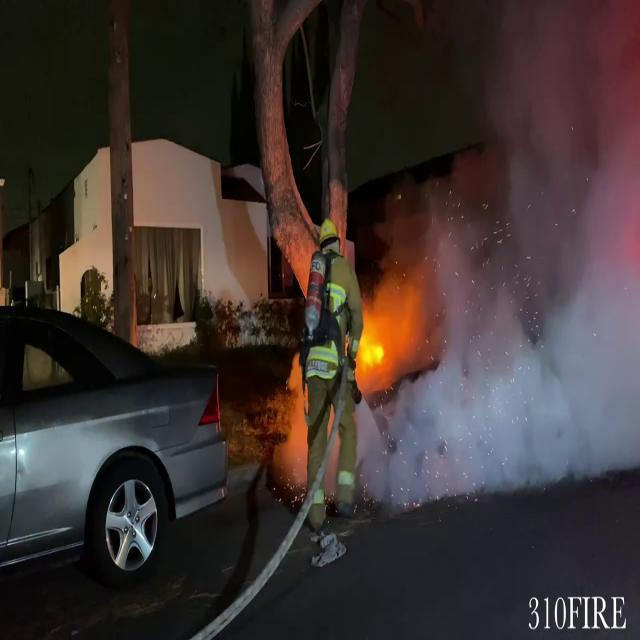Fire: (356, 310, 390, 382)
Smoke: (366, 1, 640, 511)
